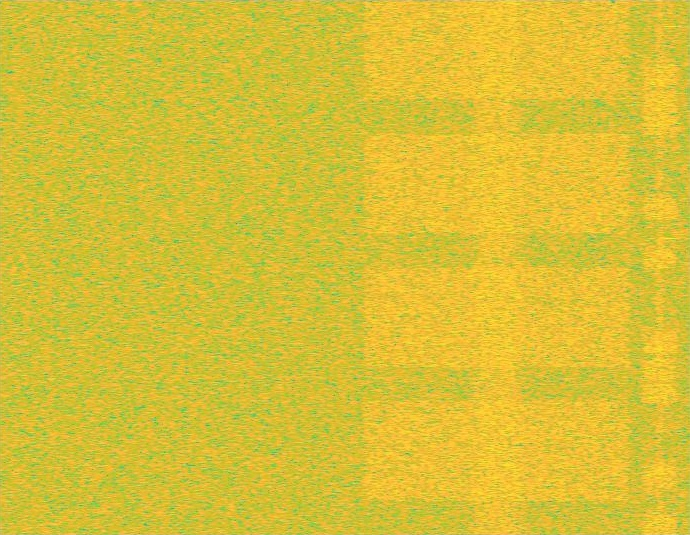5G: (359, 0, 635, 534)
DSSS: (466, 0, 528, 534), (656, 0, 664, 534)
LTE: (643, 0, 677, 534)
Radar: (664, 0, 677, 534)
